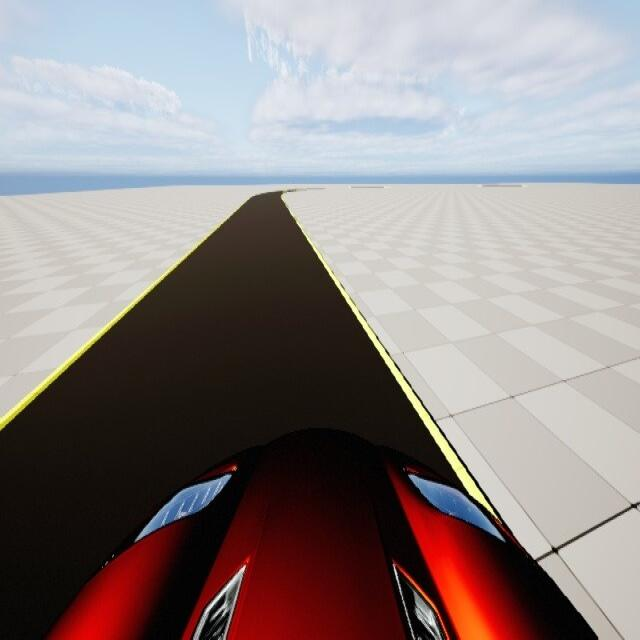lane: (0, 192, 495, 639)
